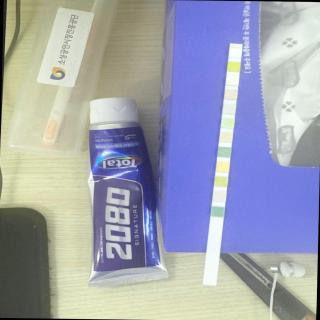mark: (218, 146, 230, 158), (212, 190, 225, 201), (212, 206, 224, 217), (214, 176, 227, 186), (224, 90, 237, 100), (227, 76, 238, 87), (217, 162, 229, 172), (222, 118, 234, 128), (228, 62, 240, 72), (220, 132, 231, 142), (223, 104, 234, 114), (230, 47, 240, 57)
